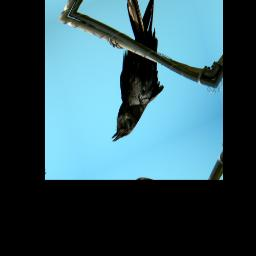Crow: (79, 0, 184, 145)
